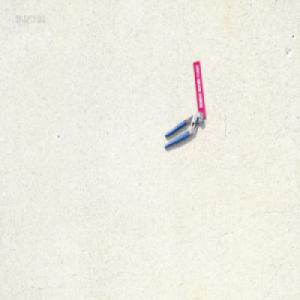Label: (193, 58, 206, 118)
Pliers: (163, 110, 203, 150)
